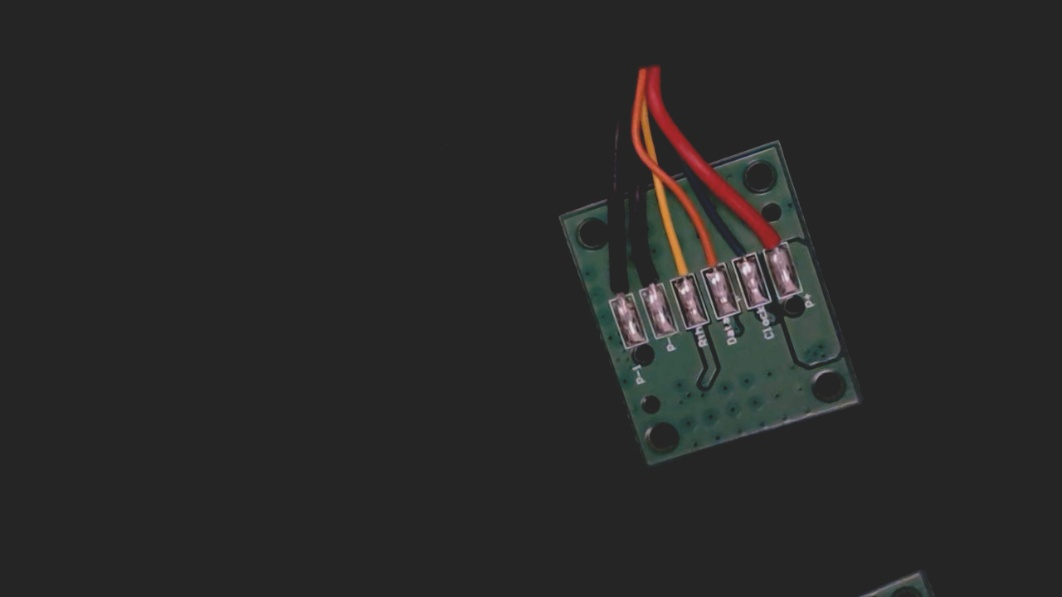Black: (626, 245, 670, 307)
Black1: (593, 252, 639, 317)
Green: (716, 216, 760, 277)
Orange: (688, 223, 731, 286)
Red: (747, 204, 791, 266)
Yellow: (660, 239, 698, 296)
